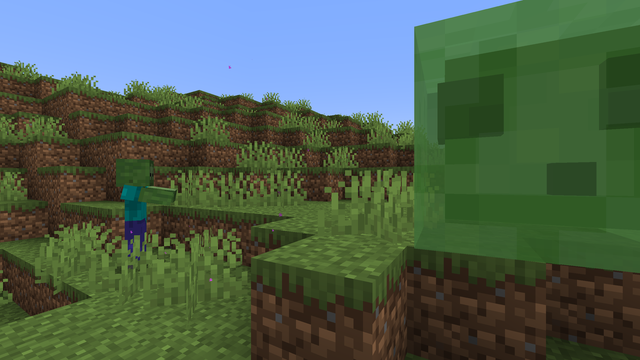slimes: (401, 4, 636, 264)
zombies: (110, 161, 161, 272)
